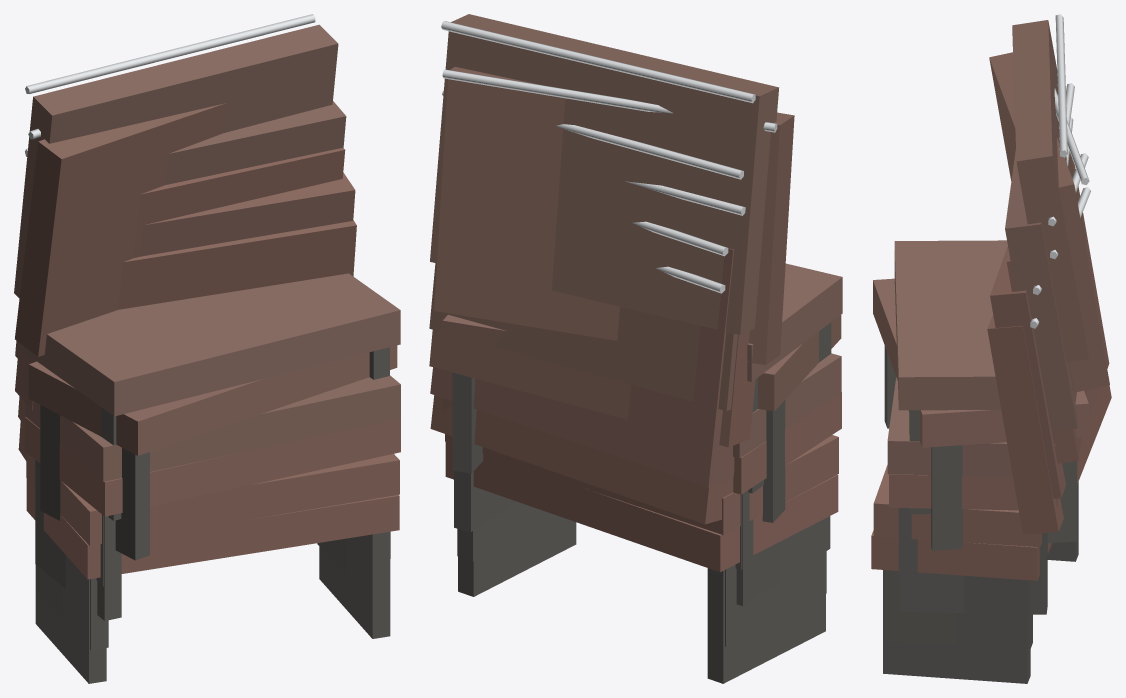
The model's file is garage_bus_seats_a.glb.
The picture shows the model from 3 angles, left to right: view 1: azimuth 30°, elevation 25°; view 2: azimuth 150°, elevation 25°; view 3: azimuth 270°, elevation 25°; orthographic projection. The views are drawn at different scales.
Parts seen in each view (by area): view 1: body; view 2: body; view 3: body.
Part boxes in pixels (x1=…): body: x1=14, y1=14, x2=400, y2=683; body: x1=429, y1=14, x2=842, y2=683; body: x1=871, y1=14, x2=1111, y2=683.
Size of what is drawn, in the model's own units: 0.9607 by 1.6 by 0.6566.
